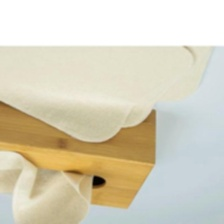tissue: (0, 46, 221, 147), (0, 146, 100, 224)
